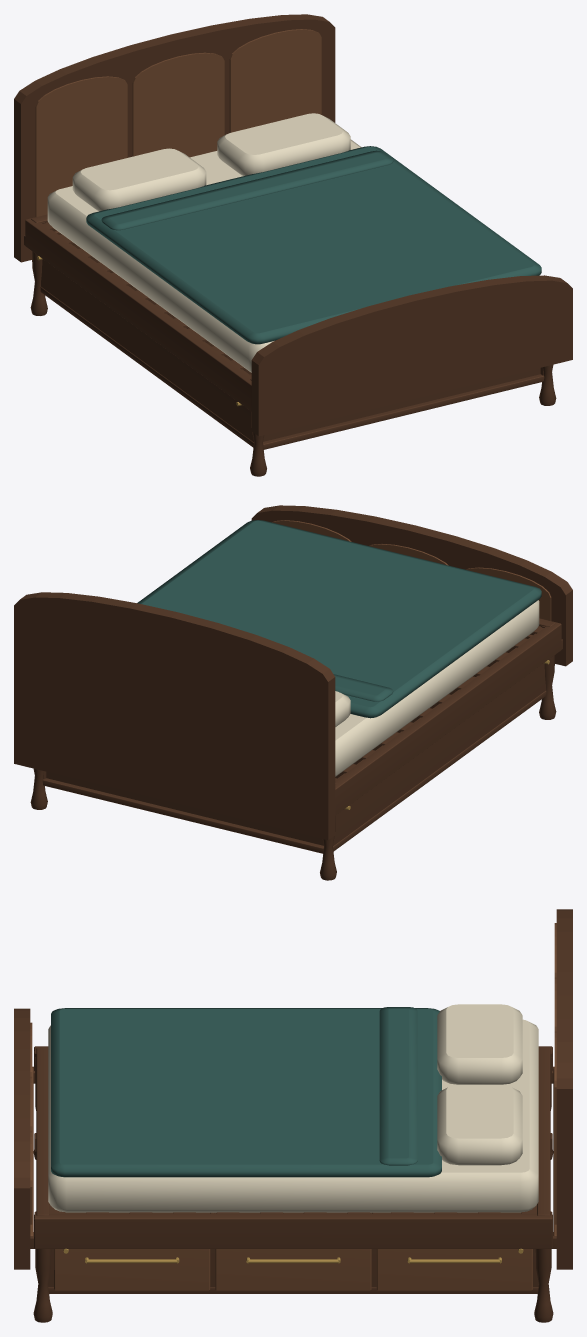
Rendered from rpg-mansion-drawer-double-bed-01.glb.
3 renders of one model, top to bottom at view 1: azimuth 30°, elevation 25°; view 2: azimuth 150°, elevation 25°; view 3: azimuth 270°, elevation 25°, orthographic. The views are drawn at different scales.
Visible parts, largest first — view 1: rpg-mansion-drawer-double-bed-01; view 2: rpg-mansion-drawer-double-bed-01; view 3: rpg-mansion-drawer-double-bed-01.
Boxes of the visible parts, left/top/right/bottom form: rpg-mansion-drawer-double-bed-01: left=14, top=14, right=572, bottom=476; rpg-mansion-drawer-double-bed-01: left=14, top=505, right=572, bottom=880; rpg-mansion-drawer-double-bed-01: left=14, top=909, right=572, bottom=1322.
Size of the model in its own units: 1.63 by 1.16 by 2.2.
